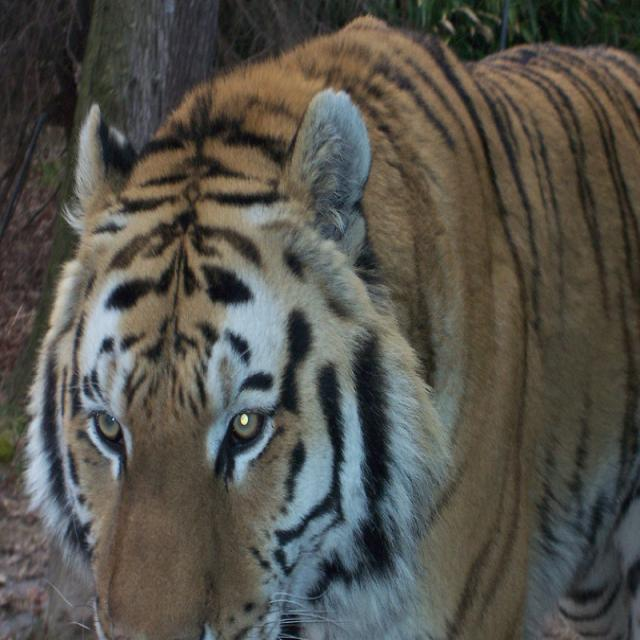Tiger: (24, 11, 636, 634)
